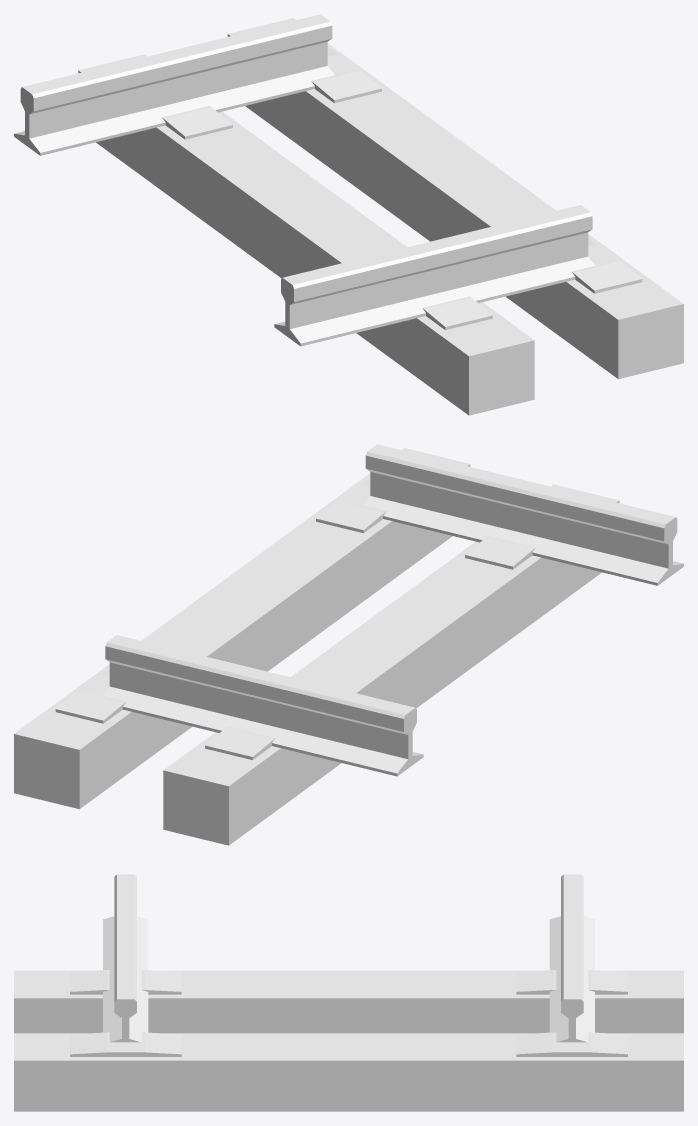
Rendered from atsf_track_wood.obj.
3 views of the same model, one above another, from view 1: azimuth 30°, elevation 25°; view 2: azimuth 150°, elevation 25°; view 3: azimuth 270°, elevation 25° (orthographic). The views are drawn at different scales.
Parts seen in each view (by area): view 1: RAIL_BASE, RAIL_LEFT, RAIL_RIGHT, RAIL_BASE.001; view 2: RAIL_BASE, RAIL_RIGHT, RAIL_LEFT, RAIL_BASE.001; view 3: RAIL_BASE, RAIL_BASE.001, RAIL_RIGHT, RAIL_LEFT.
Part boxes in pixels (left/top/right/bottom): RAIL_BASE: left=78, top=18, right=683, bottom=415; RAIL_LEFT: left=274, top=205, right=594, bottom=346; RAIL_RIGHT: left=14, top=14, right=334, bottom=155; RAIL_BASE.001: left=162, top=48, right=642, bottom=329; RAIL_BASE: left=14, top=448, right=619, bottom=845; RAIL_RIGHT: left=103, top=635, right=423, bottom=776; RAIL_LEFT: left=363, top=444, right=683, bottom=585; RAIL_BASE.001: left=55, top=478, right=535, bottom=759; RAIL_BASE: left=14, top=970, right=683, bottom=1111; RAIL_BASE.001: left=70, top=970, right=627, bottom=1056; RAIL_RIGHT: left=549, top=874, right=594, bottom=1042; RAIL_LEFT: left=103, top=874, right=148, bottom=1042.
Bounding box in the file's own units: 1.11 × 0.3683 × 2.27.
1 material, 1 textured.
